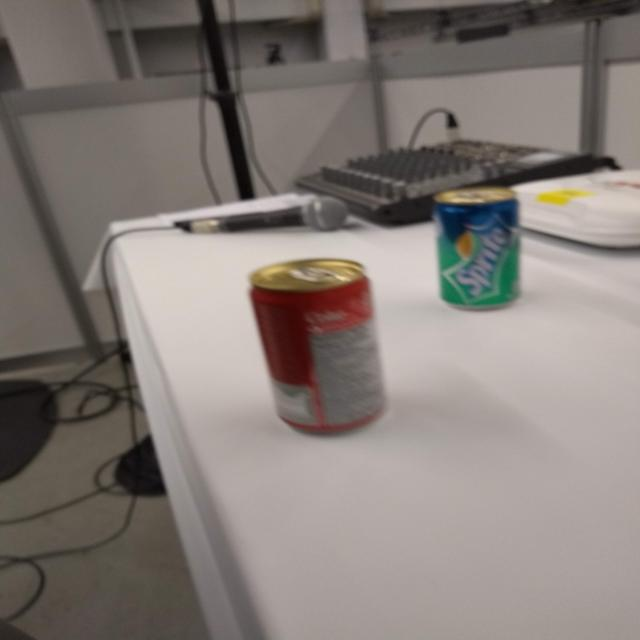coke: (240, 251, 399, 442)
sprite: (427, 183, 525, 312)
